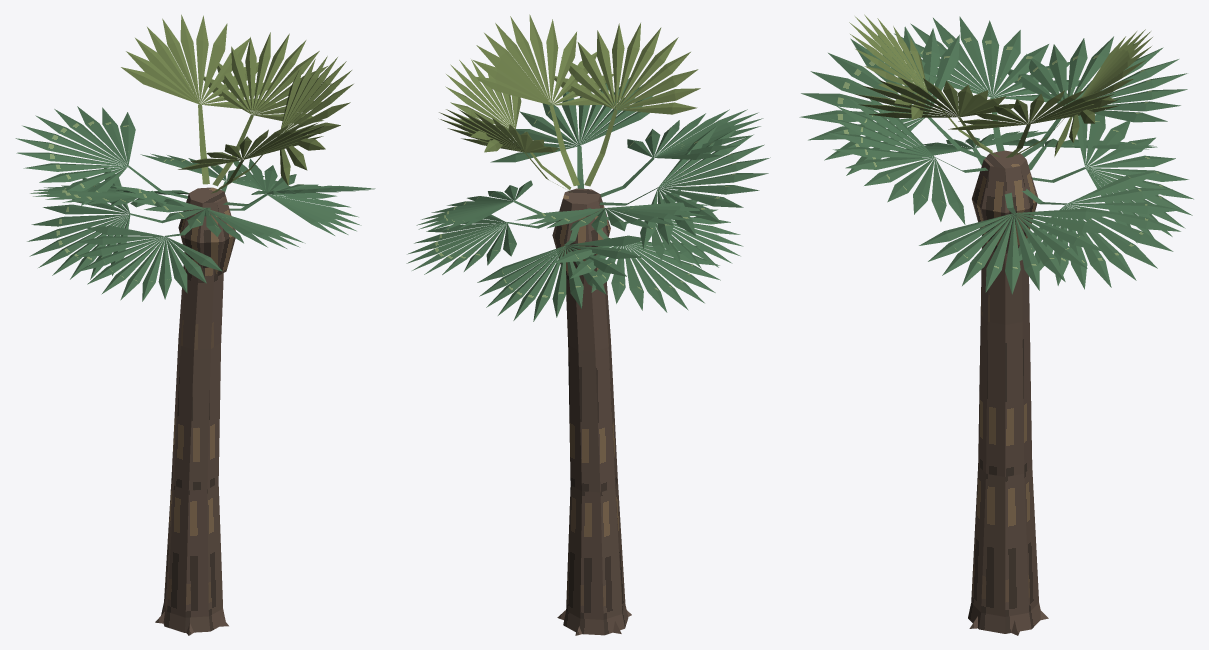
File: windmill.glb
The picture shows the model from 3 angles, left to right: view 1: azimuth 30°, elevation 25°; view 2: azimuth 150°, elevation 25°; view 3: azimuth 270°, elevation 25°; orthographic projection. The views are drawn at different scales.
Parts seen in each view (by area): view 1: crown_windmill, trunk_windmill; view 2: crown_windmill, trunk_windmill; view 3: crown_windmill, trunk_windmill.
Part boxes in pixels (bbox=[...]): crown_windmill: bbox=[15, 14, 375, 301]; trunk_windmill: bbox=[155, 187, 235, 635]; crown_windmill: bbox=[406, 14, 770, 321]; trunk_windmill: bbox=[552, 188, 631, 635]; crown_windmill: bbox=[799, 14, 1193, 294]; trunk_windmill: bbox=[968, 150, 1048, 635].
Bounding box in the file's own units: 3.85 × 6.32 × 3.74.
2 materials, 2 textured.
